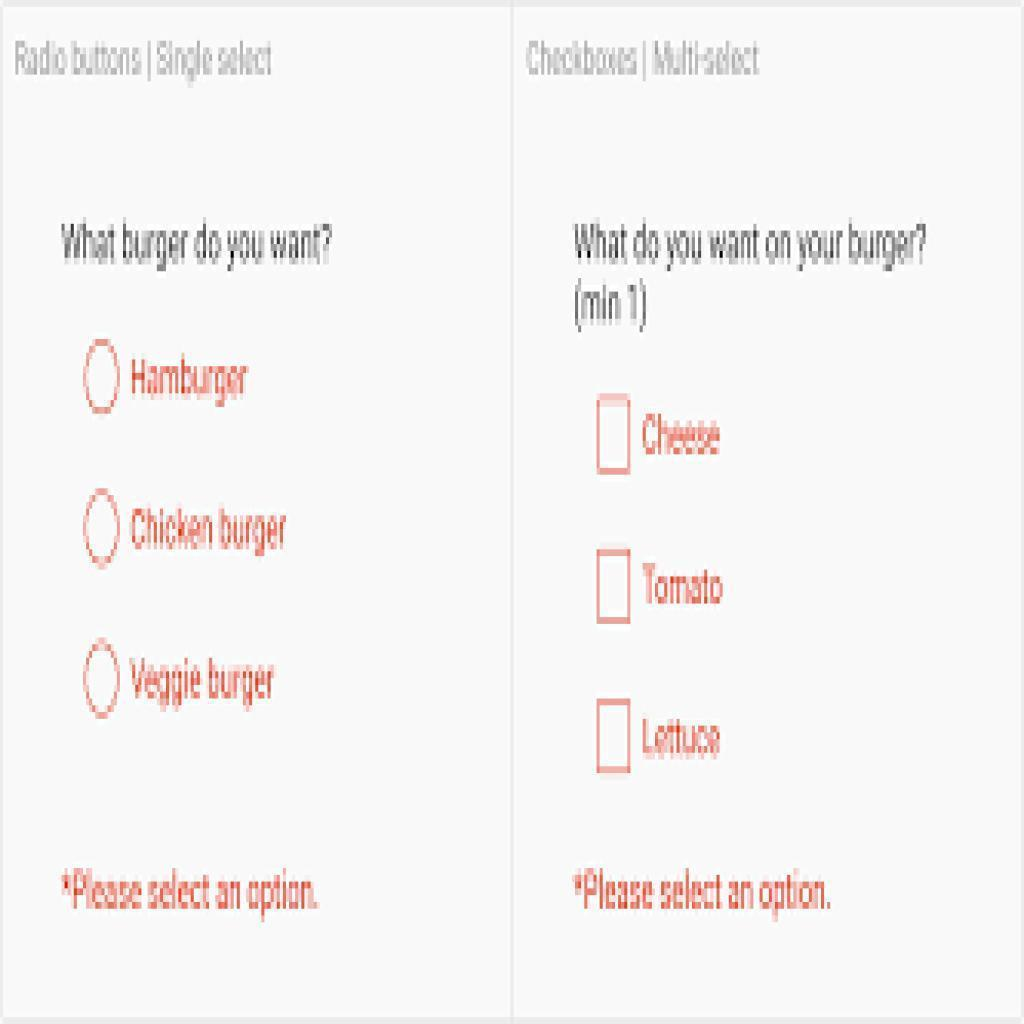checkbox: (596, 549, 634, 623), (596, 699, 634, 770), (598, 398, 629, 472)
radio: (79, 480, 123, 575), (81, 631, 128, 715), (82, 339, 126, 427)
